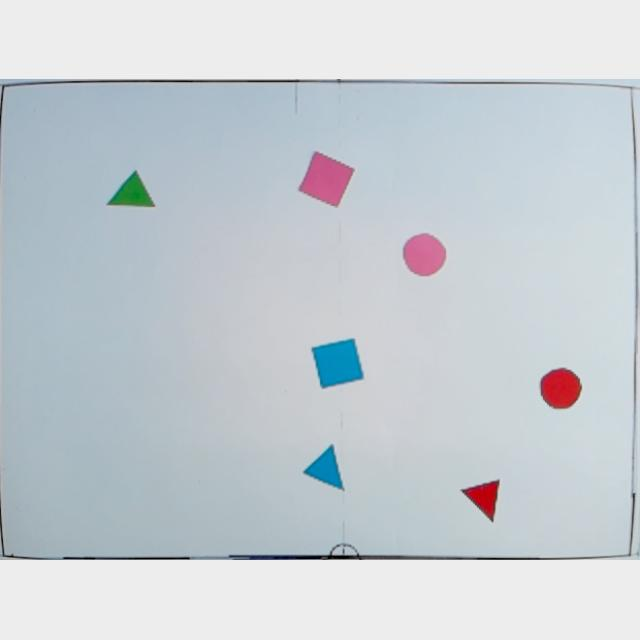blueSquare: (310, 338, 366, 389)
blueTriangle: (302, 446, 348, 494)
greenTriangle: (106, 171, 158, 209)
pinkCircle: (402, 234, 448, 278)
pinkSquare: (296, 152, 356, 210)
redCircle: (540, 368, 584, 412)
redTriangle: (460, 478, 500, 524)
